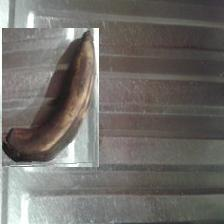Banana Rotten: (2, 29, 99, 168)
